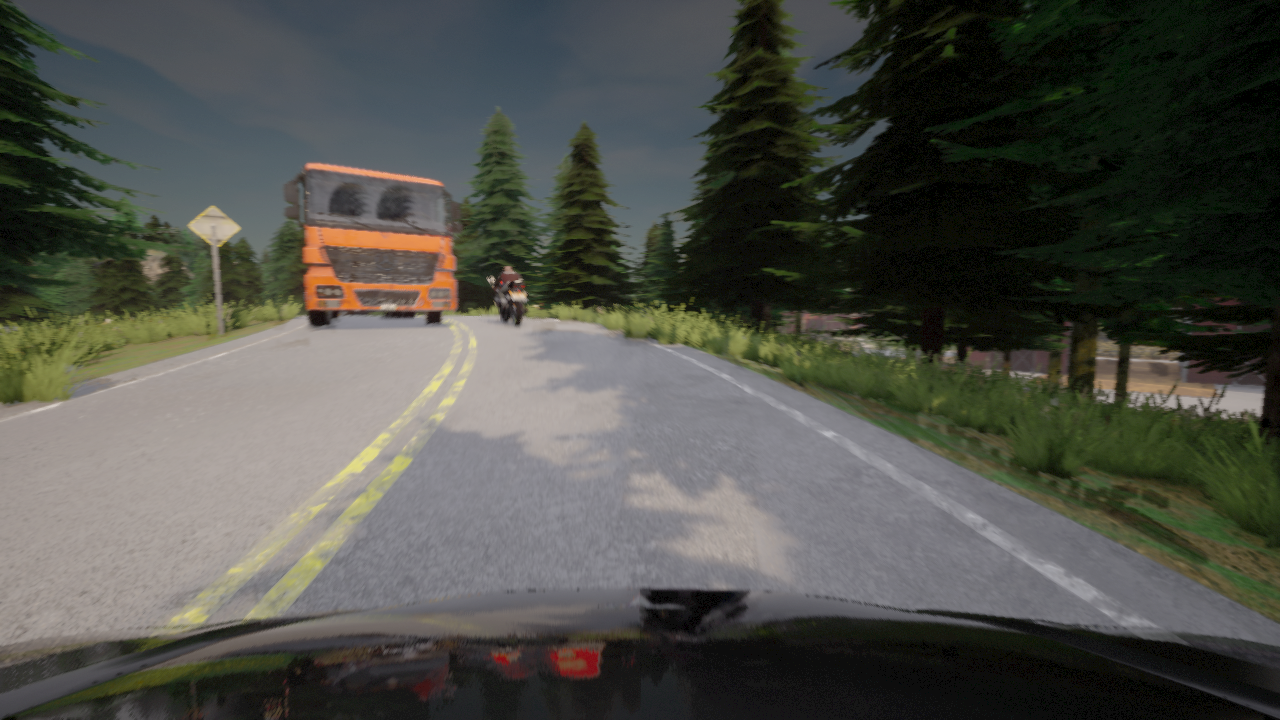cyclist: (0, 588, 1279, 719), (283, 163, 461, 325), (489, 278, 528, 326), (340, 310, 384, 315), (2, 325, 15, 331), (822, 335, 834, 339), (811, 334, 821, 338), (895, 337, 900, 338)
